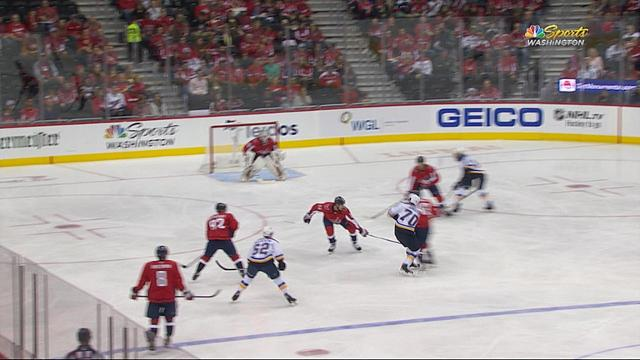geico: (437, 103, 550, 133)
